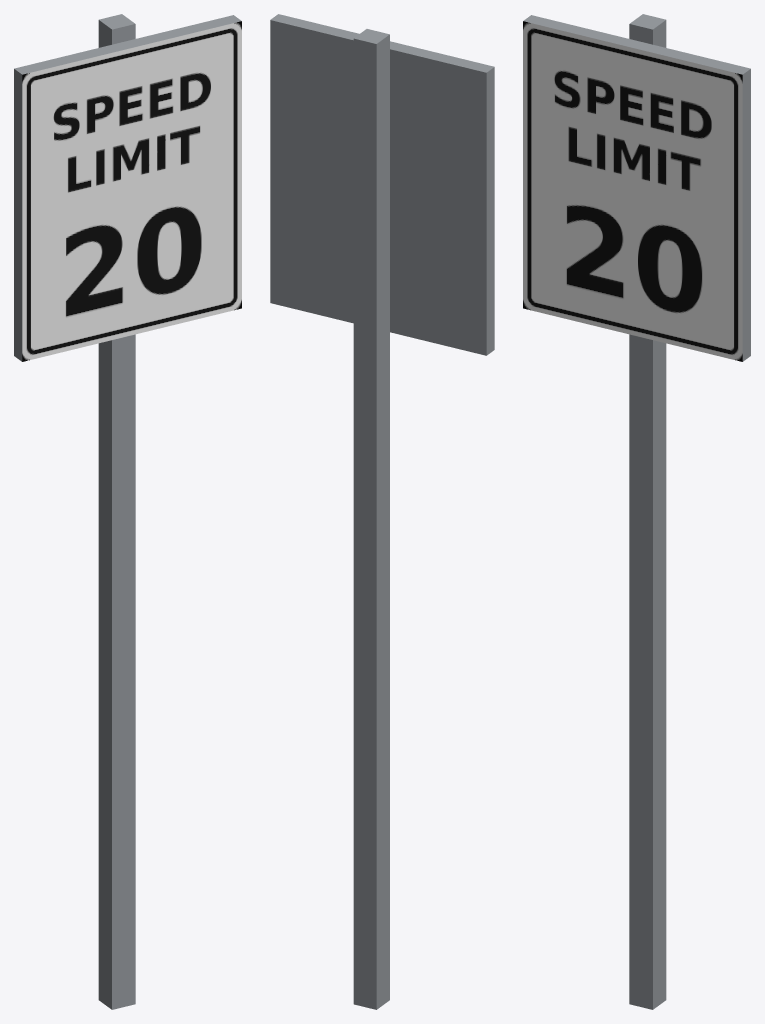
File: us_speed20.dae
The picture shows the model from 3 angles, left to right: view 1: azimuth 30°, elevation 25°; view 2: azimuth 150°, elevation 25°; view 3: azimuth 330°, elevation 25°; orthographic projection.
Parts seen in each view (by area): view 1: sign4, Colmesh-1; view 2: Colmesh-1, sign4; view 3: sign4, Colmesh-1.
Boxes of the visible parts, x1,y1,x2,y2 form: sign4: (22, 14, 241, 1009); Colmesh-1: (14, 15, 241, 361); Colmesh-1: (270, 14, 494, 355); sign4: (353, 29, 389, 1009); sign4: (523, 14, 742, 1009); Colmesh-1: (523, 15, 750, 361).
Size of the model in its own units: 0.6096 by 0.105 by 2.6.
2 materials, 1 textured.
